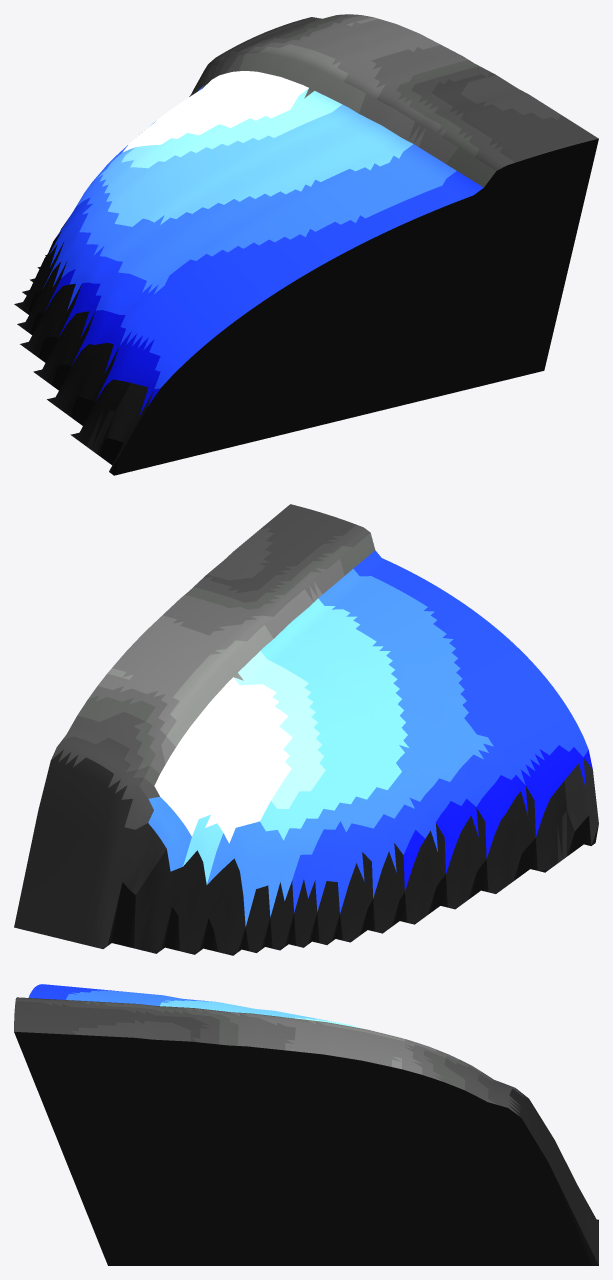
File: time_capsule_168.glb
The picture shows the model from 3 angles, top to bottom: view 1: azimuth 30°, elevation 25°; view 2: azimuth 150°, elevation 25°; view 3: azimuth 270°, elevation 25°; orthographic projection. The views are drawn at different scales.
Parts seen in each view (by area): view 1: time_capsule_168; view 2: time_capsule_168; view 3: time_capsule_168.
Boxes of the visible parts, box(x1,y1,x2,y2) form: time_capsule_168: box(14, 14, 598, 475); time_capsule_168: box(14, 504, 598, 955); time_capsule_168: box(14, 984, 598, 1265).
Bounding box in the file's own units: 23.5 × 14.2 × 32.17.
